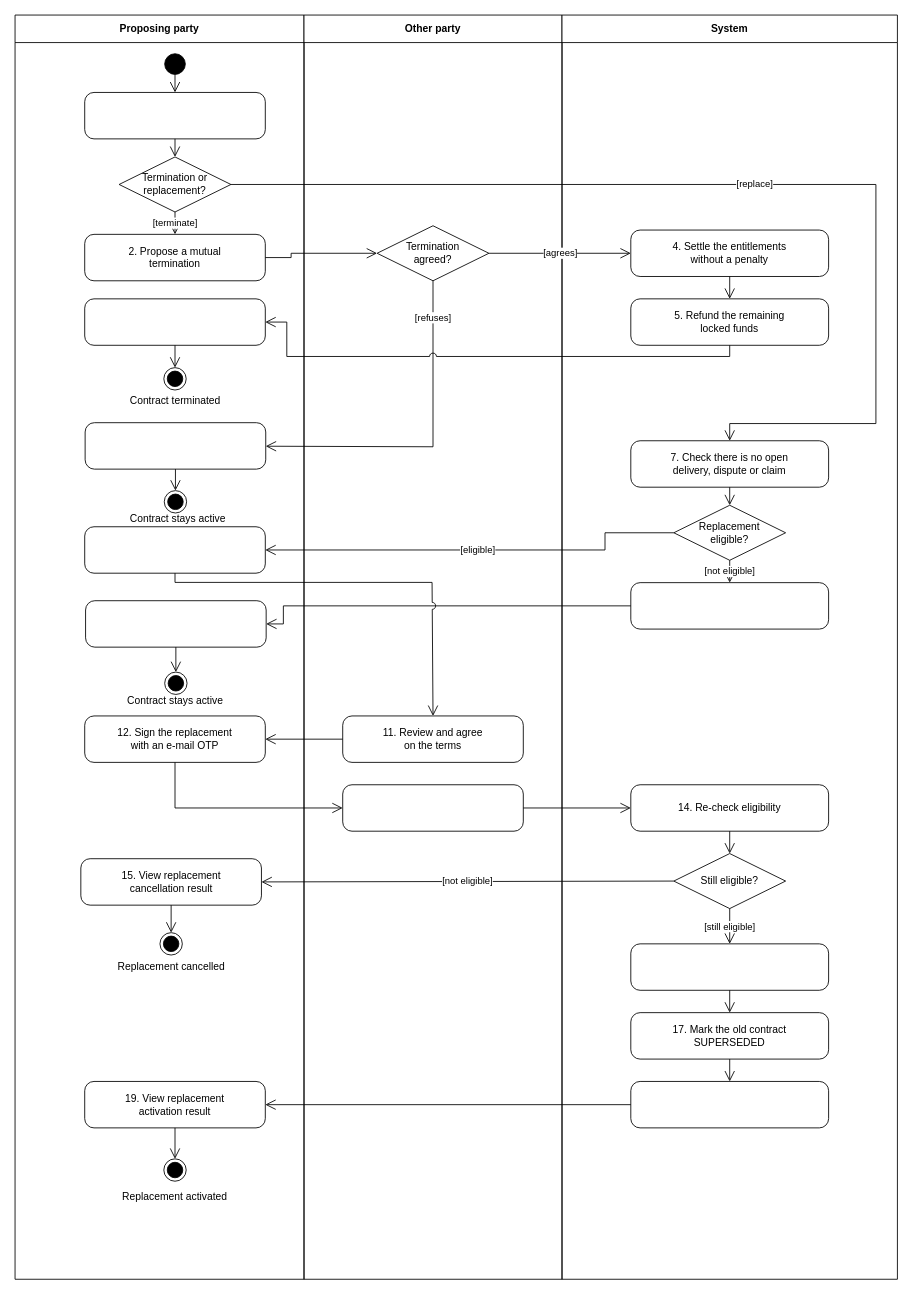
Some shapes in this 912 by 1294 pixel diagram are drawn without their labels. Here are the shapes that lost their labels. From the top down, the centre of each, then its label:
At pixel 174 115: "1. Choose termination or replacement".
At pixel 174 321: "6. View termination result".
At pixel 175 445: "3. View refusal result".
At pixel 174 549: "10. Propose the replacement terms".
At pixel 175 623: "9. View rejection reason".
At pixel 729 605: "8. Reject the proposal with a reason".
At pixel 432 807: "13. Sign the replacement with an e-mail OTP".
At pixel 729 966: "16. Freeze the old contract and refund its funds".
At pixel 729 1104: "18. Activate the replacement as in BF-03".
